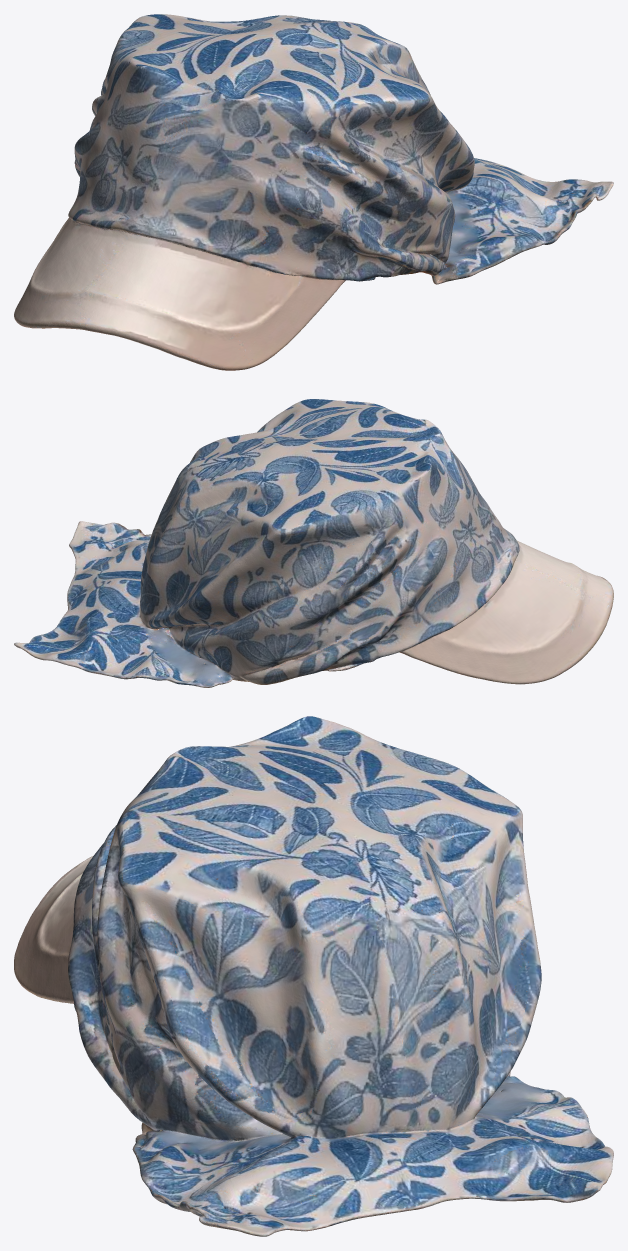
File: cap-3d-v2.glb
3 views of the same model, one above another, from view 1: azimuth 30°, elevation 25°; view 2: azimuth 150°, elevation 25°; view 3: azimuth 270°, elevation 25° (orthographic). The views are drawn at different scales.
Visible parts, largest first — view 1: world; view 2: world; view 3: world.
Boxes of the visible parts, bbox=[...] form: world: bbox=[14, 14, 613, 370]; world: bbox=[14, 399, 613, 687]; world: bbox=[14, 716, 613, 1236].
Bounding box in the file's own units: 1.99 × 0.7345 × 1.42.
Materials: 1 (1 with a texture image).
